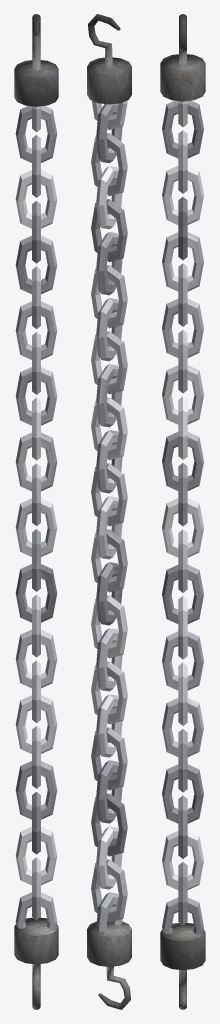
File: chain.fbx
3 renders of one model, left to right at view 1: azimuth 90°, elevation 25°; view 2: azimuth 150°, elevation 25°; view 3: azimuth 270°, elevation 25°, orthographic.
Visible parts, largest first — view 1: hook, hook1, ring11, ring5, ring23, ring17, ring13, ring7, ring19, ring3, ring9, ring21 (+16 smaller); view 2: hook, hook1, ring8, ring6, ring4, ring2, ring10, ring12, ring24, ring16, ring18, ring20 (+16 smaller); view 3: hook, hook1, ring13, ring17, ring9, ring21, ring5, ring3, ring7, ring23, ring11, ring19 (+16 smaller).
Boxes of the visible parts, bbox=[...] form: hook: bbox=[14, 14, 58, 106]; hook1: bbox=[14, 917, 58, 1009]; ring11: bbox=[15, 432, 57, 491]; ring5: bbox=[15, 235, 57, 294]; ring23: bbox=[15, 826, 57, 885]; ring17: bbox=[15, 629, 57, 688]; ring13: bbox=[15, 498, 57, 556]; ring7: bbox=[15, 301, 57, 359]; ring19: bbox=[15, 695, 57, 753]; ring3: bbox=[15, 170, 57, 228]; ring9: bbox=[15, 367, 57, 425]; ring21: bbox=[15, 761, 57, 819]; hook: bbox=[87, 14, 131, 104]; hook1: bbox=[87, 921, 131, 1009]; ring8: bbox=[91, 331, 127, 394]; ring6: bbox=[91, 265, 127, 328]; ring4: bbox=[91, 199, 127, 262]; ring2: bbox=[91, 133, 127, 196]; ring10: bbox=[91, 397, 127, 460]; ring12: bbox=[91, 463, 127, 526]; ring24: bbox=[91, 859, 127, 922]; ring16: bbox=[91, 595, 127, 658]; ring18: bbox=[91, 661, 127, 724]; ring20: bbox=[91, 727, 127, 790]; hook: bbox=[160, 14, 205, 101]; hook1: bbox=[160, 923, 205, 1009]; ring13: bbox=[162, 498, 203, 557]; ring17: bbox=[162, 631, 203, 690]; ring9: bbox=[162, 365, 203, 424]; ring21: bbox=[162, 764, 203, 823]; ring5: bbox=[162, 232, 203, 291]; ring3: bbox=[162, 166, 203, 224]; ring7: bbox=[162, 299, 203, 357]; ring23: bbox=[162, 831, 203, 889]; ring11: bbox=[162, 432, 203, 490]; ring19: bbox=[162, 698, 203, 756].
Bounding box in the file's own units: 0.2963 × 6.69 × 0.2744.
Materials: 2 (2 with a texture image).
